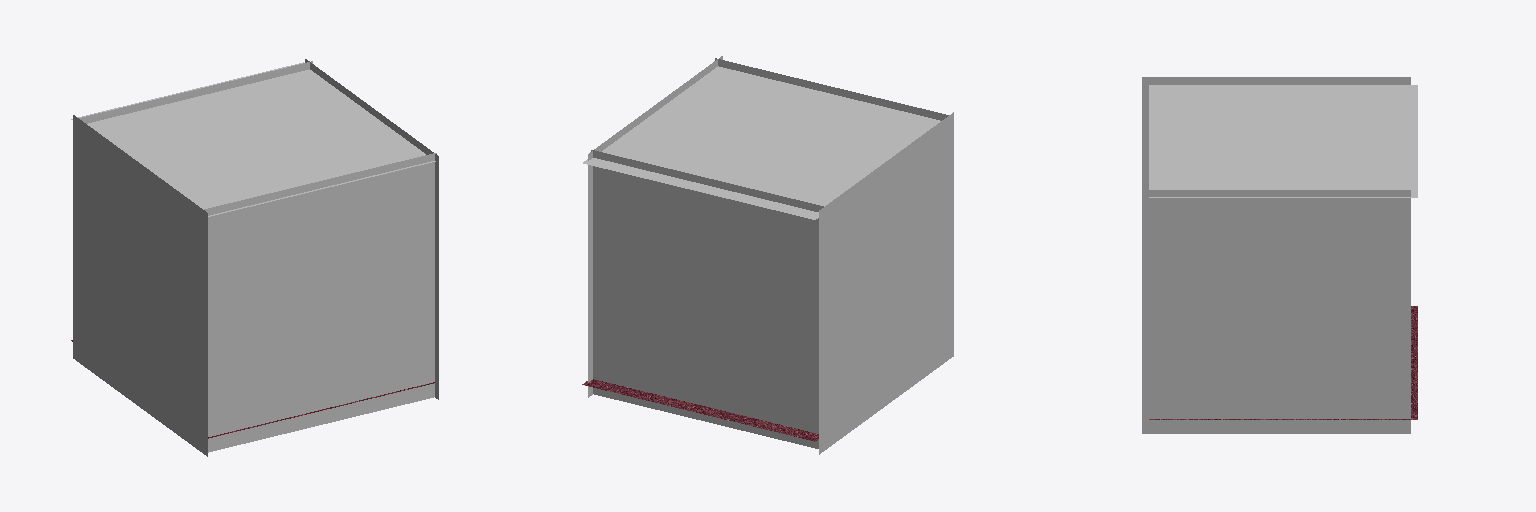
3 renders of one model, left to right at view 1: azimuth 30°, elevation 25°; view 2: azimuth 150°, elevation 25°; view 3: azimuth 270°, elevation 25°, orthographic.
Visible parts, largest first — view 1: Plane.003, Plane, Plane.004_Plane.005, Plane.001, Plane.002_Plane.004; view 2: Plane.002_Plane.004, Plane, Plane.004_Plane.005, Plane.001, Plane.005_Plane.006, Plane.003; view 3: Plane.001, Plane.004_Plane.005, Plane, Plane.005_Plane.006.
Boxes of the visible parts, x1=… form: Plane.003: x1=204, y1=153, x2=436, y2=452; Plane: x1=73, y1=115, x2=207, y2=456; Plane.004_Plane.005: x1=71, y1=62, x2=435, y2=216; Plane.001: x1=305, y1=59, x2=438, y2=399; Plane.002_Plane.004: x1=79, y1=61, x2=312, y2=123; Plane.002_Plane.004: x1=591, y1=150, x2=823, y2=448; Plane: x1=819, y1=112, x2=953, y2=454; Plane.004_Plane.005: x1=583, y1=66, x2=940, y2=219; Plane.001: x1=588, y1=56, x2=722, y2=397; Plane.005_Plane.006: x1=582, y1=379, x2=818, y2=441; Plane.003: x1=715, y1=58, x2=948, y2=120; Plane.001: x1=1142, y1=190, x2=1410, y2=433; Plane.004_Plane.005: x1=1149, y1=85, x2=1417, y2=197; Plane: x1=1142, y1=77, x2=1410, y2=189; Plane.005_Plane.006: x1=1149, y1=306, x2=1417, y2=419.
Size of the model in its own units: 8.03 by 8 by 8.2.
2 materials, 1 textured.